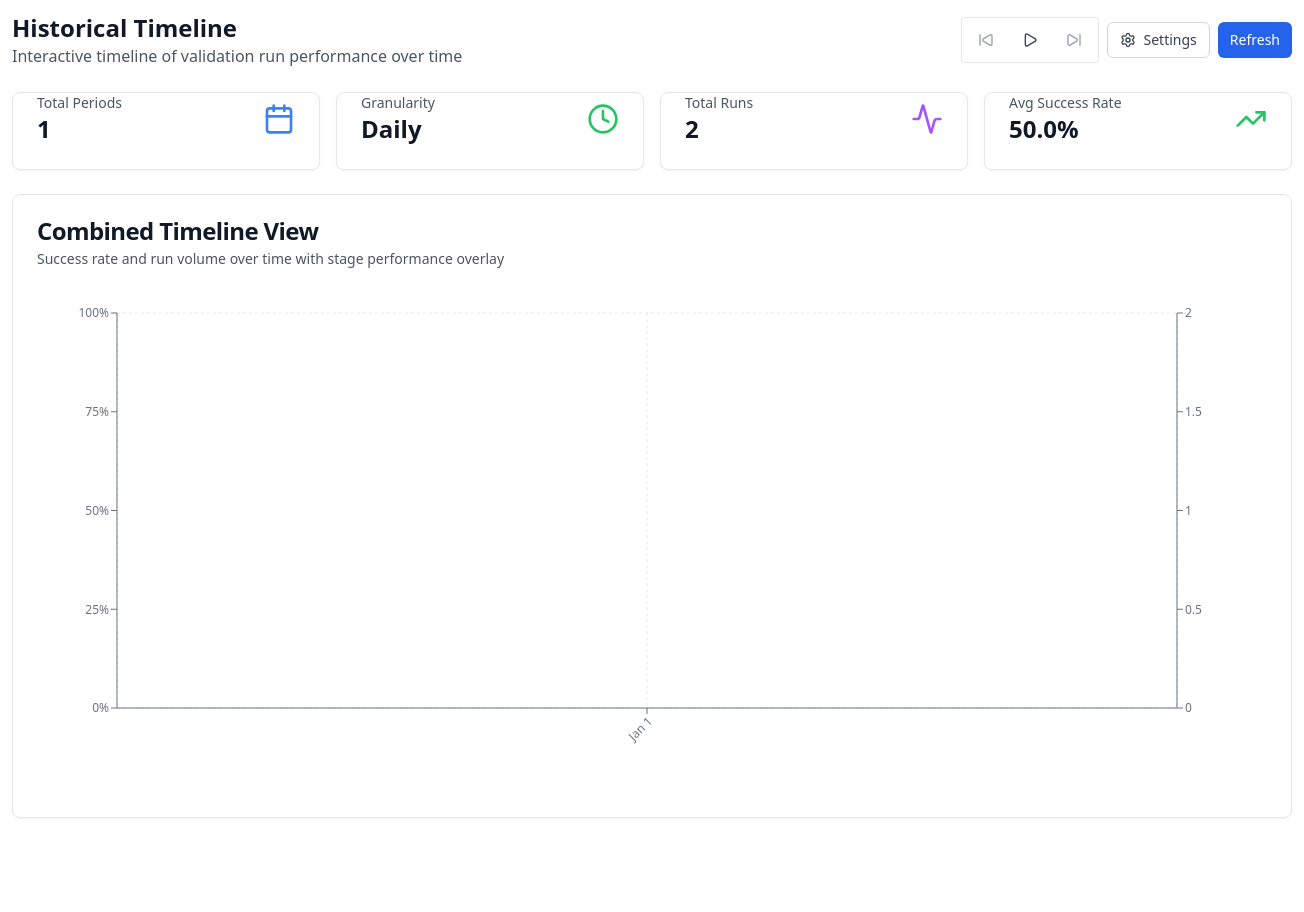
Test: HistoricalTimeline › handles stage filter changes
Expected: the heading "Historical Timeline" is shown, [12, 11, 237, 44]
Open settings
Click the button "Settings" at [1158, 40], box [1106, 22, 1210, 58]
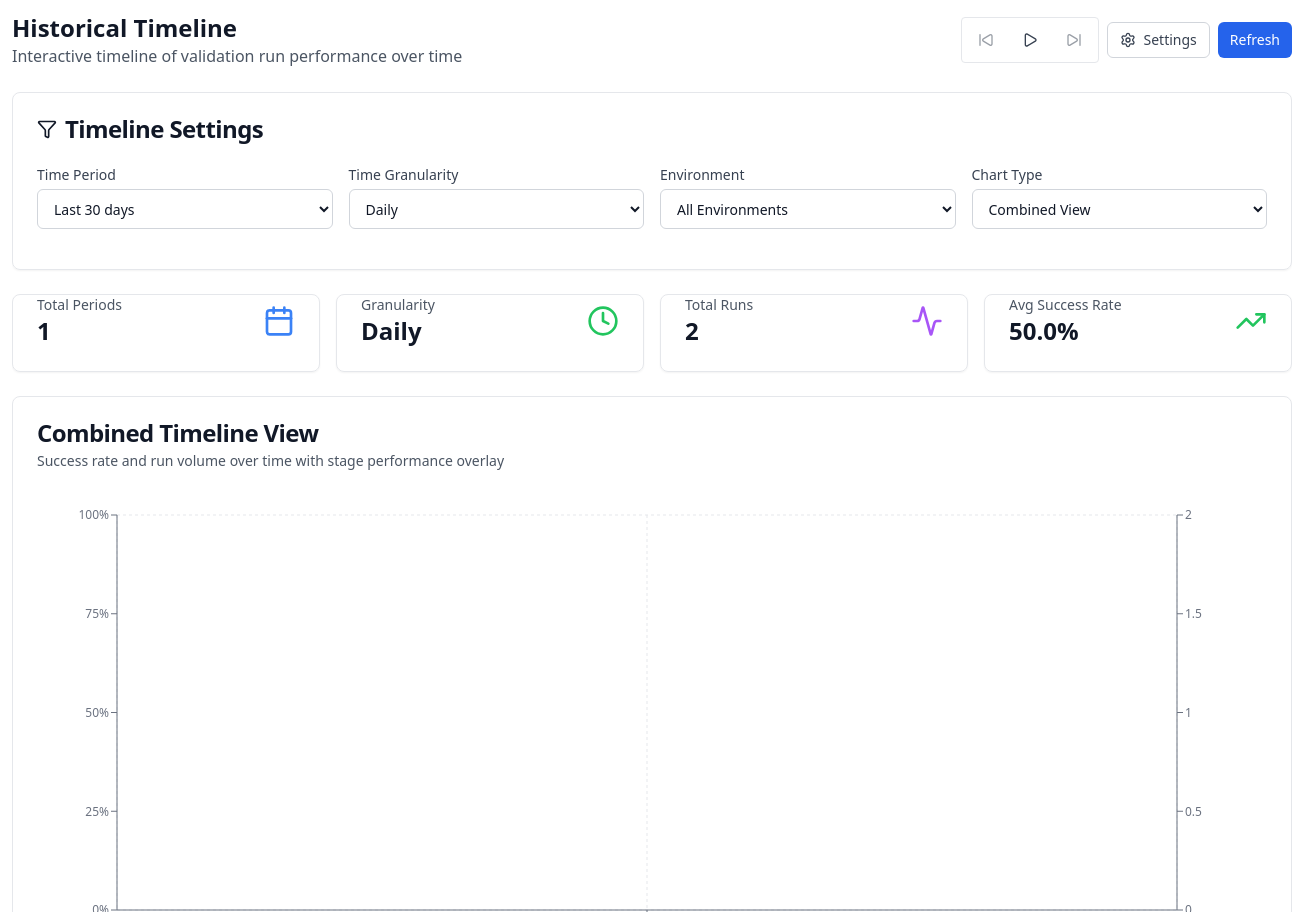
Expected: the heading "Timeline Settings" is shown, [37, 112, 263, 145]
